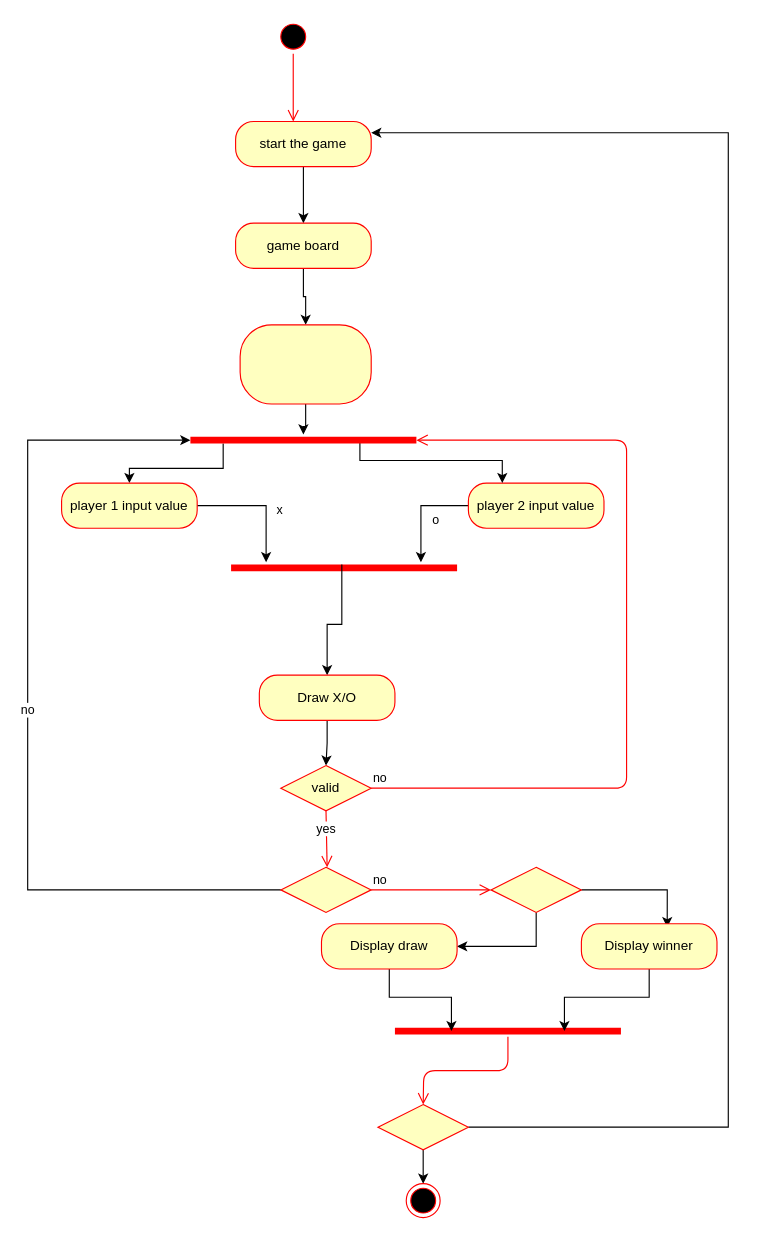
Image size: 757x1237. Some labels were removed from this diagram. Each missing label, with the centre of its shape:
"choose x or 0" goes at (x=305, y=364).
"game draw" goes at (x=535, y=889).
"game ending" goes at (x=325, y=889).
"play again" goes at (x=422, y=1126).
